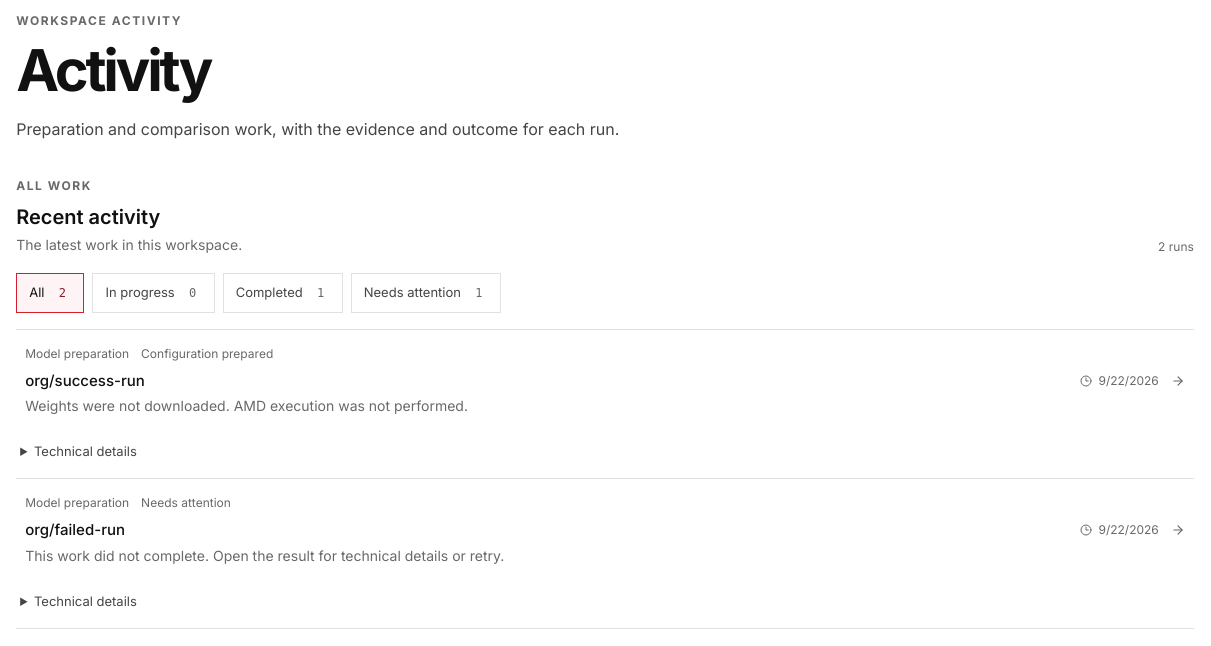
Scenario: Common Components › filters Runs locally by activity outcome
Check: the text "org/success-run" is shown, box [25, 370, 145, 390]
Check: the text "org/failed-run" is shown, box [25, 520, 125, 539]
Click the button "Completed 1" at (283,292), box [223, 272, 343, 312]
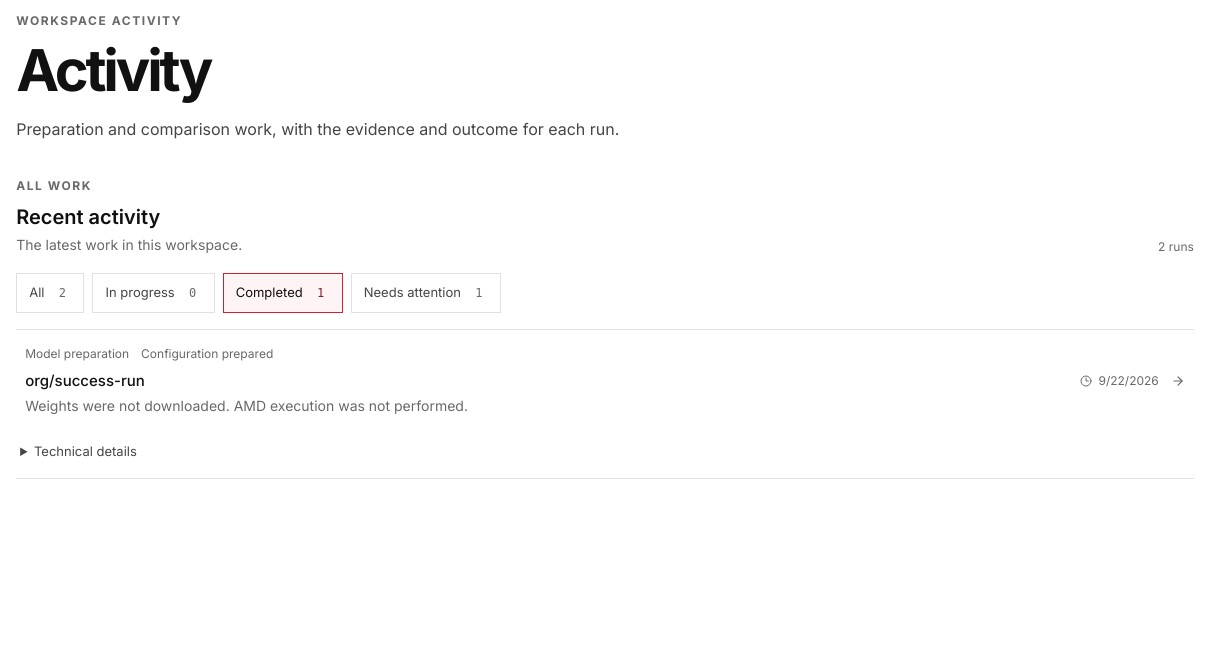
Check: the text "org/success-run" is shown, box [25, 370, 145, 390]
Check: the button "org/failed-run" is gone
Click the button "Needs attention 1" at (426,292), box [351, 272, 501, 312]
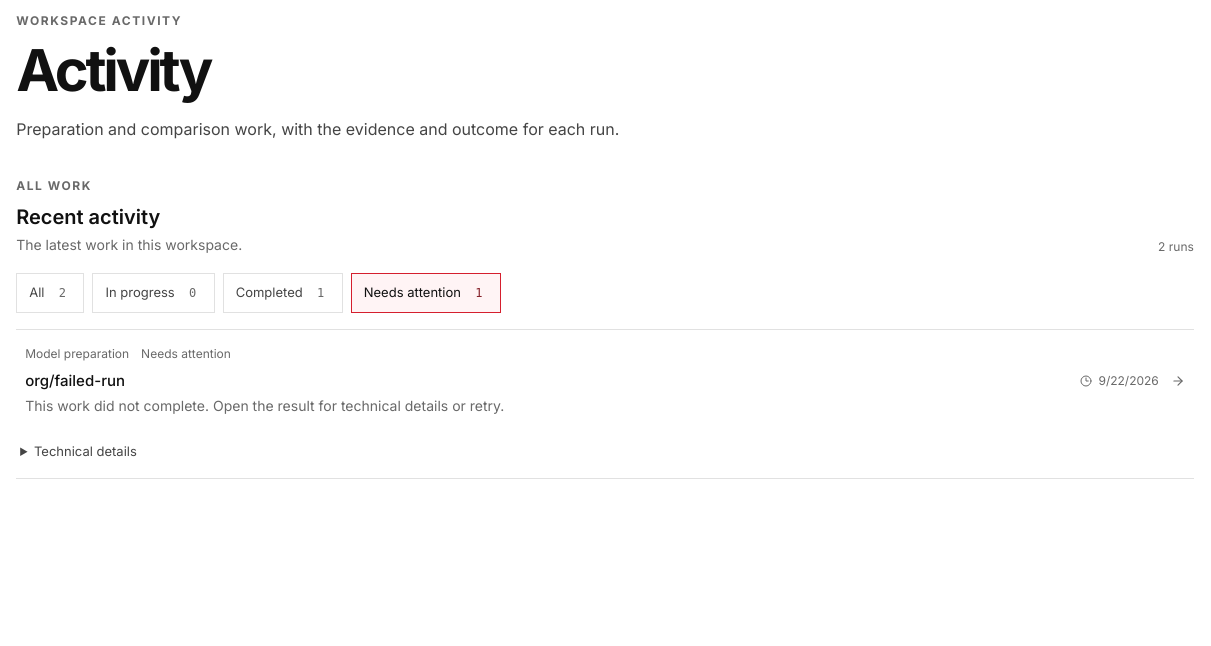
Check: the text "org/failed-run" is shown, box [25, 370, 125, 390]
Check: the button "org/success-run" is gone
